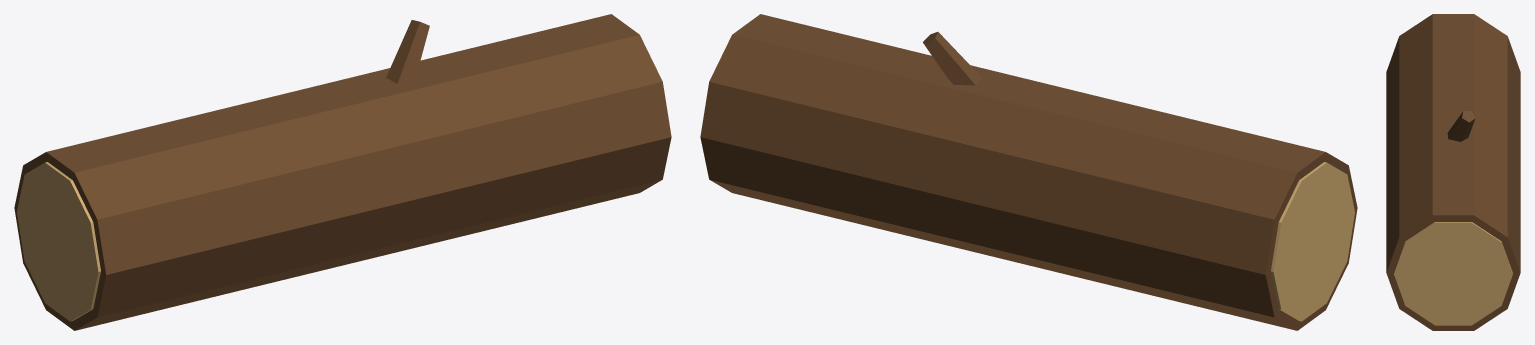
File: p_log.glb
3 views of the same model, side by side, from view 1: azimuth 30°, elevation 25°; view 2: azimuth 150°, elevation 25°; view 3: azimuth 270°, elevation 25° (orthographic). The views are drawn at different scales.
Visible parts, largest first — view 1: log; view 2: log; view 3: log.
Boxes of the visible parts, x1,y1,x2,y2 form: log: (14, 14, 671, 330); log: (700, 14, 1357, 330); log: (1386, 14, 1520, 330).
Size of the model in its own units: 3.23 by 1.11 by 0.9.
